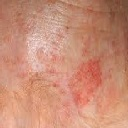Actinic: (70, 59, 104, 104), (11, 75, 54, 106)
